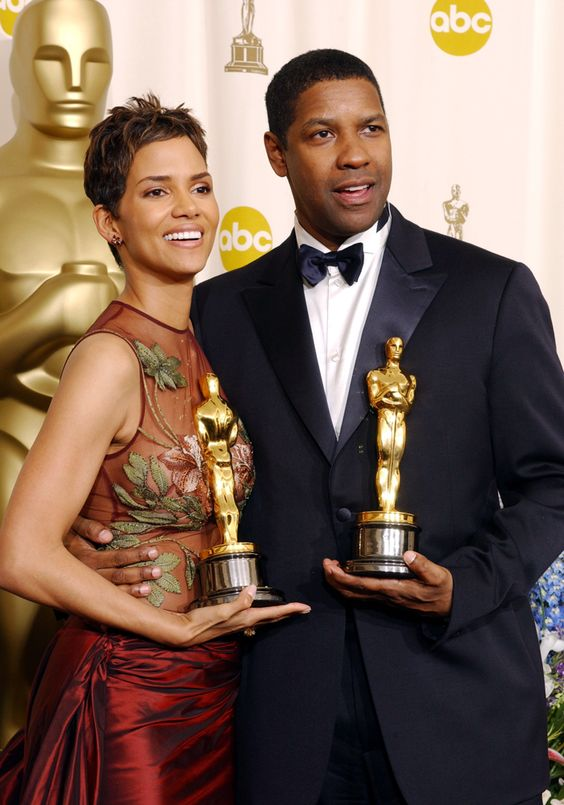hand: (166, 593, 299, 629)
